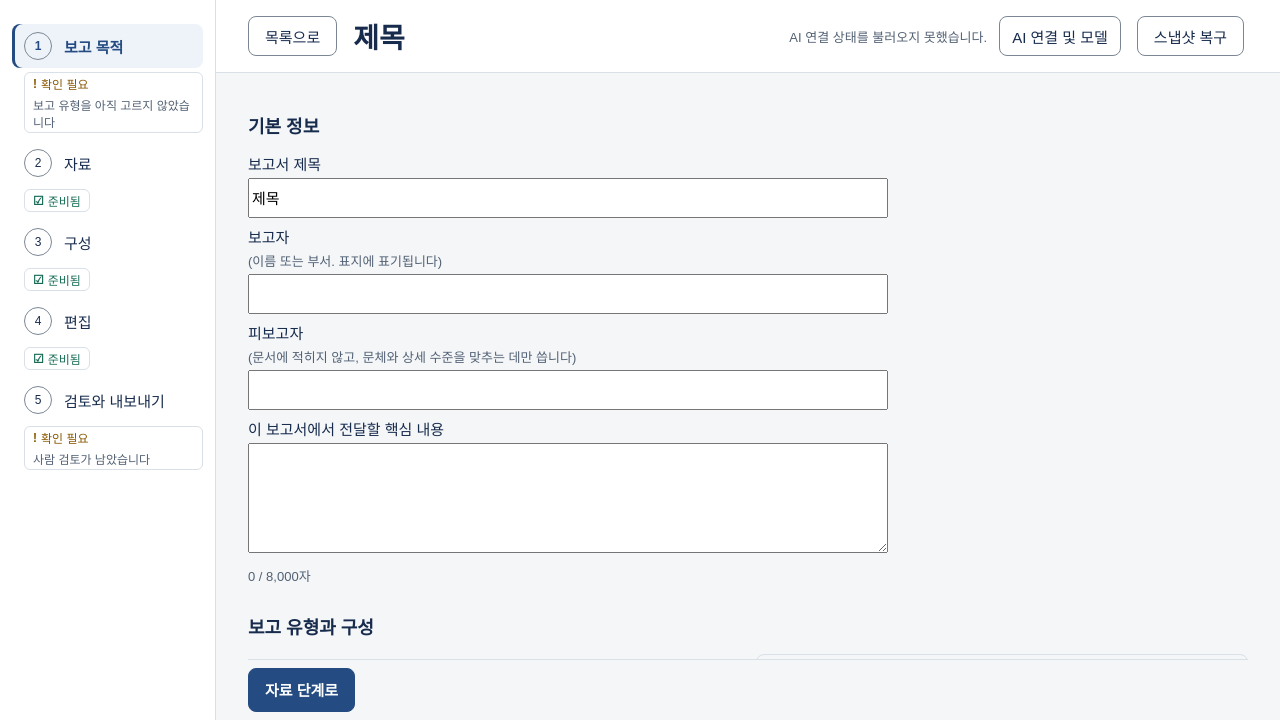
Test: 상단 머리의 저장 상태 출처 (계획 4.1 표) › 구성: 초안이 저장본과 다르면 변경사항 있음이고, 승인 전 초안은 저장되지 않는 값임을 밝힌다
Expected: the button "4 편집" is enabled, [12,299,203,343]
What coordinates should you click on to do the following:
click the button "3 구성"
I would click on:
 (108, 242)
Its box is [12,220,203,264].
(page scrolled)
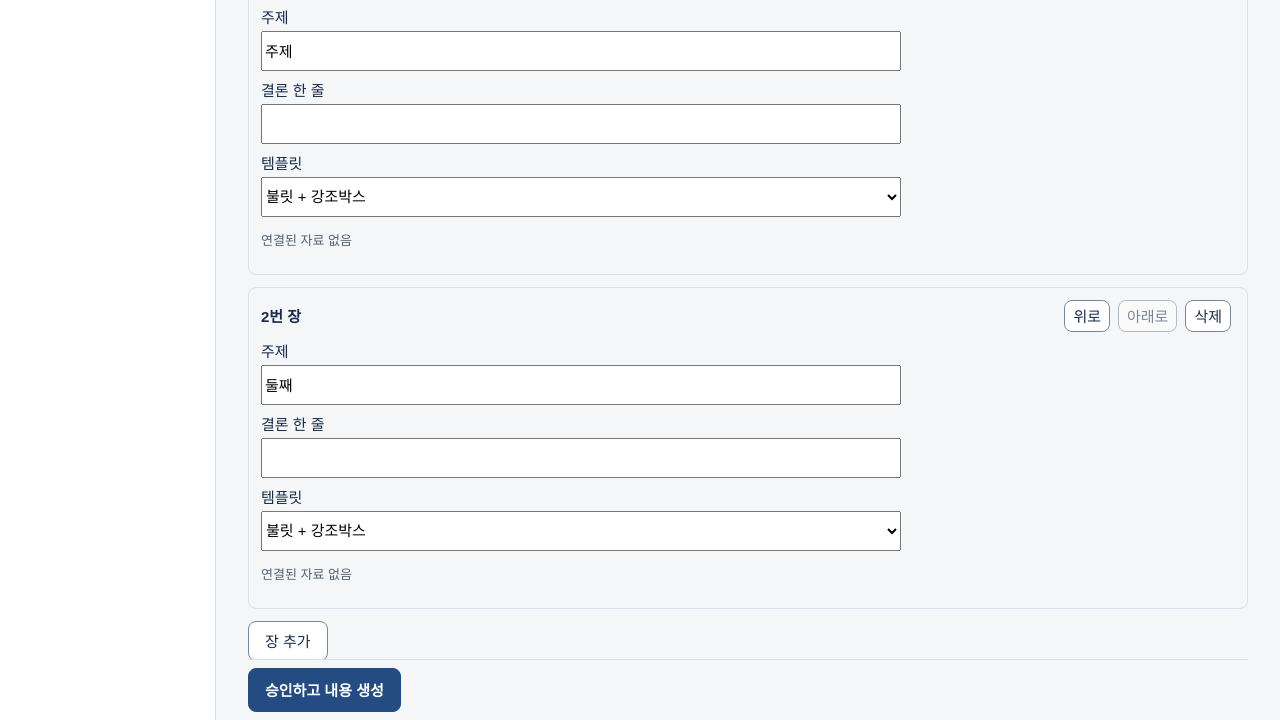
다시 씀 (D3a-7 사용자 결정, A19): 이 단계에서 저장하기 전에는 머리에 저장 상태를 보이지 않는다
What coordinates should you click on to do the following:
click the button with aria-label "2번 장 삭제"
I would click on:
 (1208, 316)
Its box is [1185,300,1231,332].
(page scrolled)
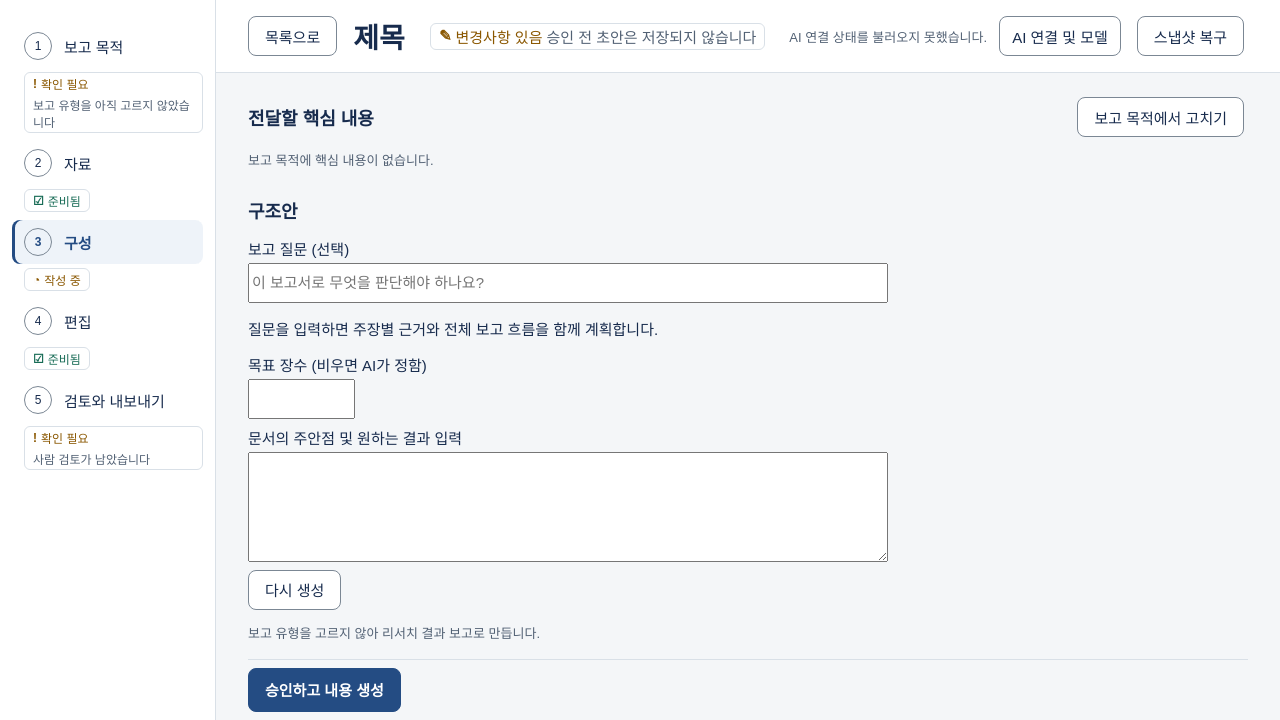
Expected: the text with class "status-label" reads "변경사항 있음", [456,28,542,46]
Expected: the element with class "header-save-status" shows "승인 전 초안은 저장되지 않습니다", [546,28,756,46]
